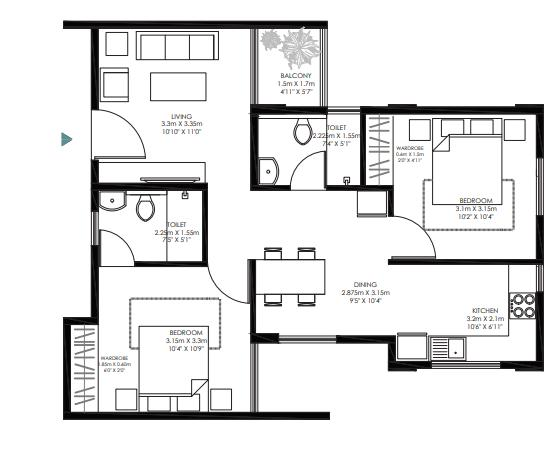Balcony: (257, 31, 323, 104)
Bed: (429, 118, 505, 205), (139, 324, 206, 413)
Bedroom: (101, 266, 250, 413), (393, 117, 535, 257)
Dining Room: (249, 188, 389, 335)
Dining table: (250, 239, 333, 316)
Kitchen: (390, 263, 537, 361)
Living Room: (97, 30, 252, 188)
Sofa: (134, 32, 218, 61), (102, 69, 130, 101)
Wardrobe: (72, 325, 98, 414), (367, 117, 394, 185)
commode: (294, 119, 312, 144), (136, 196, 154, 220)
door: (96, 110, 144, 155), (390, 214, 436, 259), (208, 258, 249, 306), (290, 153, 325, 189)
sink: (429, 338, 465, 360), (258, 159, 279, 185), (99, 191, 126, 209)
stove: (508, 293, 535, 318)
toilet: (257, 116, 361, 187), (99, 193, 201, 263)
tv: (109, 161, 204, 185)
utility: (391, 297, 473, 365)
